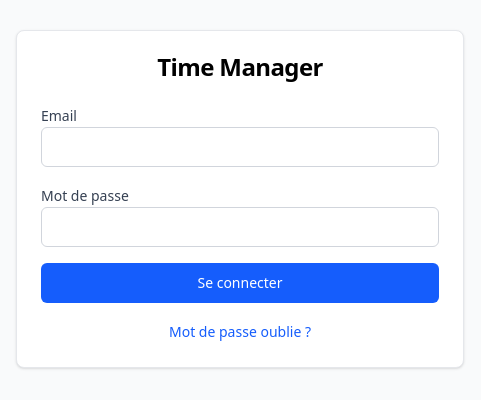
LoginPage › Form Validation › shows validation error when password is empty
In the field labelled "Email": (240, 147) [41,127,439,167], type "test@example.com"
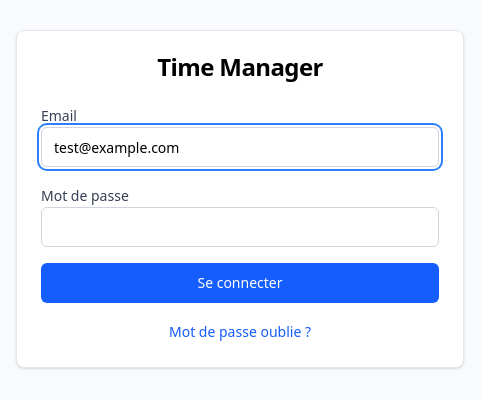
Click the button "Se connecter": (240, 283) [41,263,439,303]
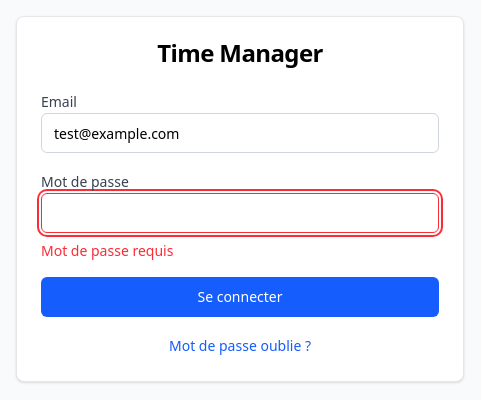
Expected: the text "Mot de passe requis" is shown, [41,241,173,260]
